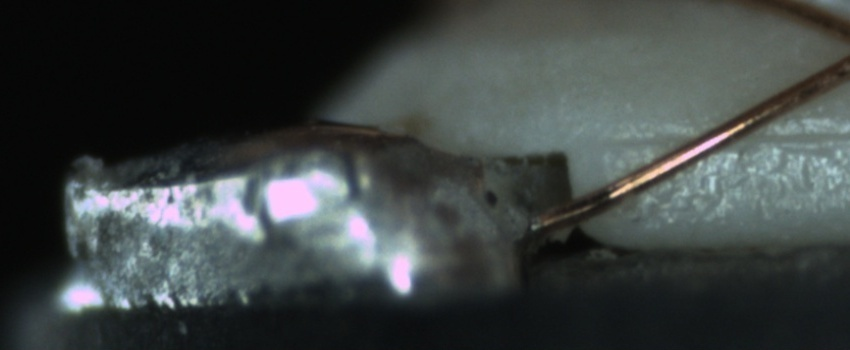CL: (831, 12, 850, 76)
DL: (616, 110, 846, 164)
